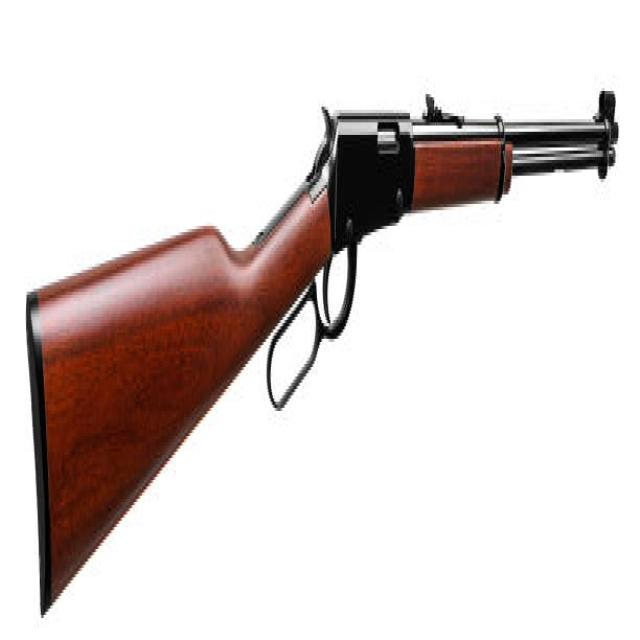rifle: (23, 76, 621, 620)
